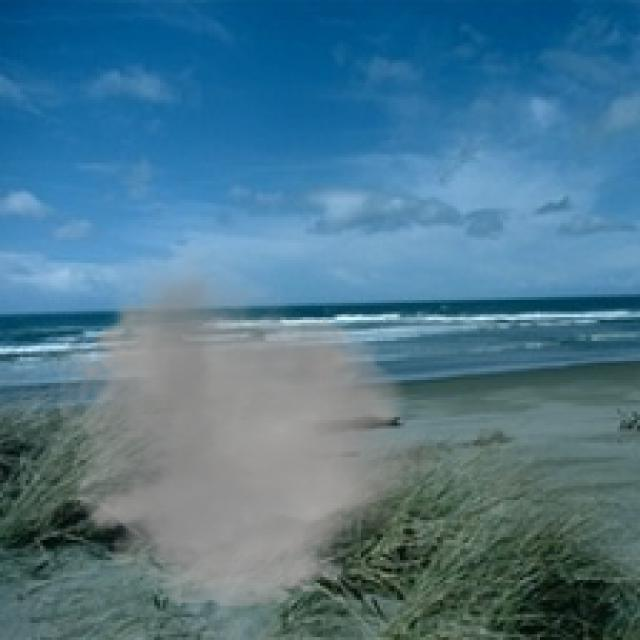smoke: (37, 243, 454, 617)
